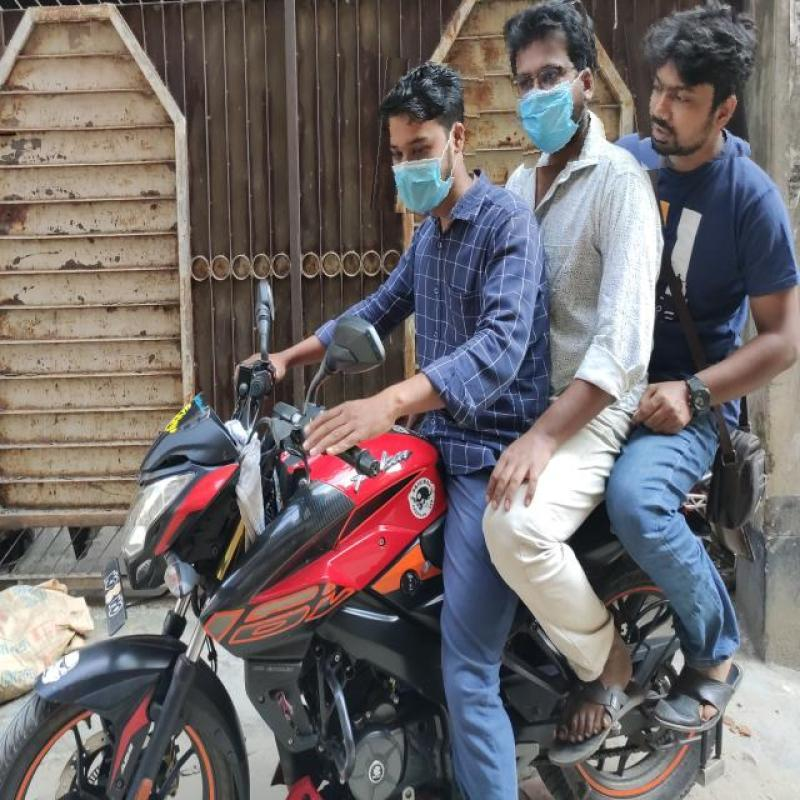nohelmet: (628, 12, 746, 168), (374, 59, 482, 218), (506, 4, 603, 166)
